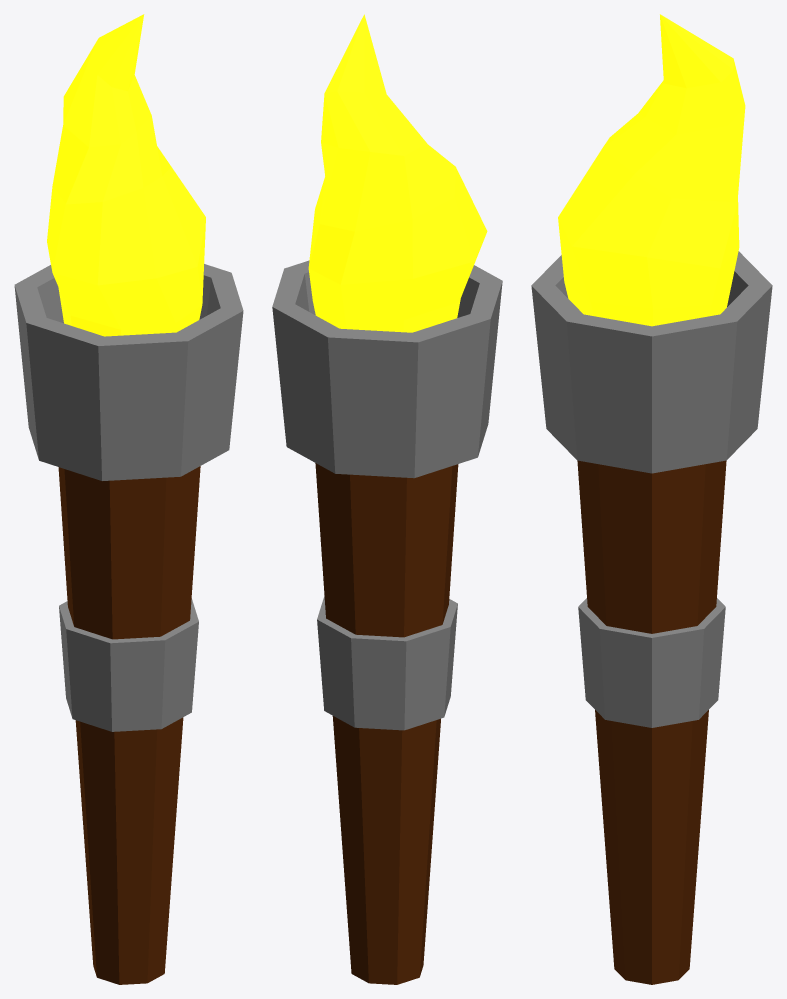
The model's file is Torch_3.fbx.
3 renders of one model, left to right at view 1: azimuth 30°, elevation 25°; view 2: azimuth 150°, elevation 25°; view 3: azimuth 270°, elevation 25°, orthographic.
Parts seen in each view (by area): view 1: Torch; view 2: Torch; view 3: Torch.
Boxes of the visible parts, bbox=[...] form: Torch: bbox=[14, 14, 243, 984]; Torch: bbox=[272, 14, 502, 984]; Torch: bbox=[531, 14, 772, 984].
Bounding box in the file's own units: 31.98 × 141 × 31.98.
